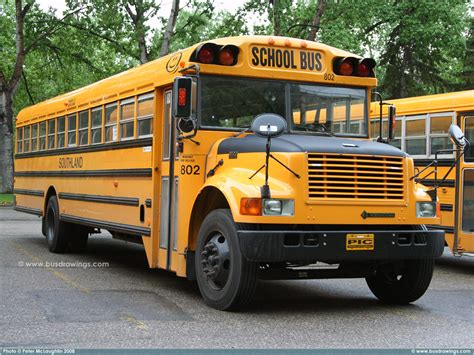bus: (12, 52, 433, 279)
